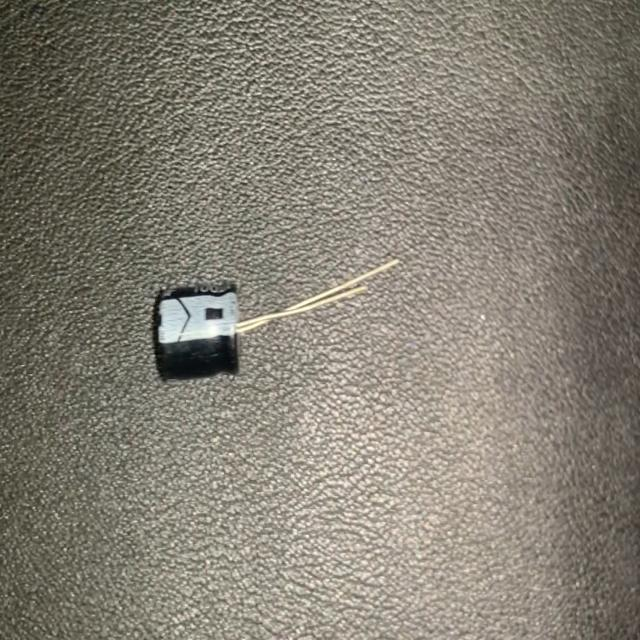capacitor: (148, 249, 401, 389)
